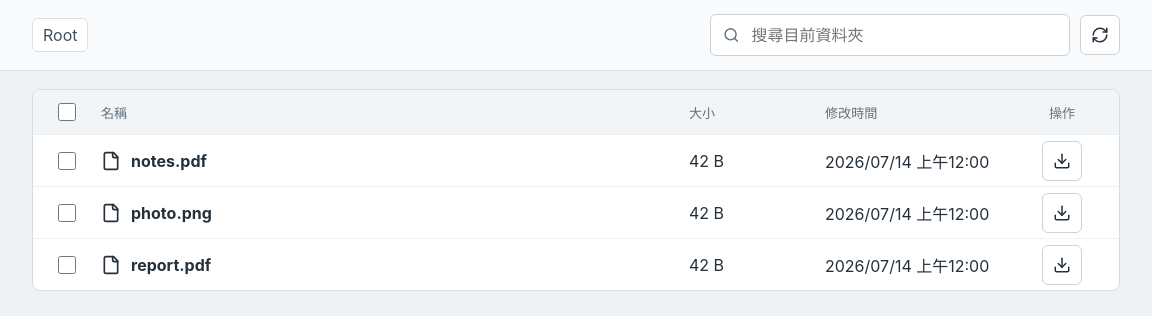
Test: DriveView batch downloads › selects only loaded files matching the current search
Check: the text "report.pdf" is shown, box [101, 254, 211, 274]
Type ".pdf" into the field labelled "搜尋目前資料夾" at (903, 35), box [750, 24, 1057, 46]
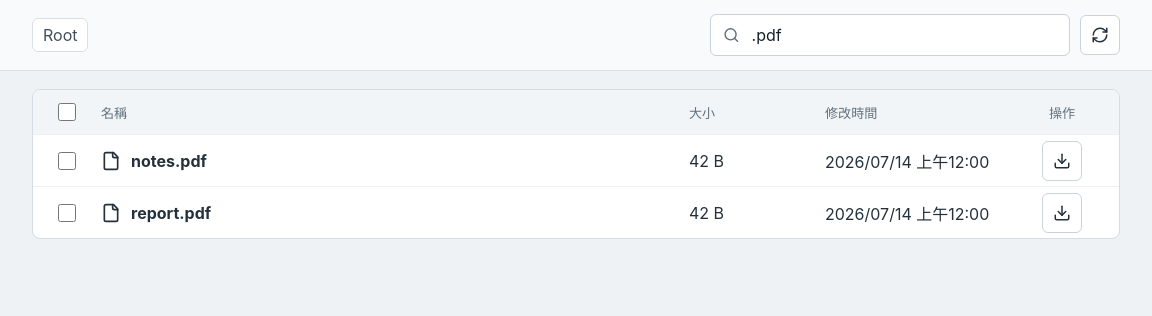
Click the checkbox named "選取目前顯示的所有檔案" at (67, 112), box [58, 103, 76, 121]
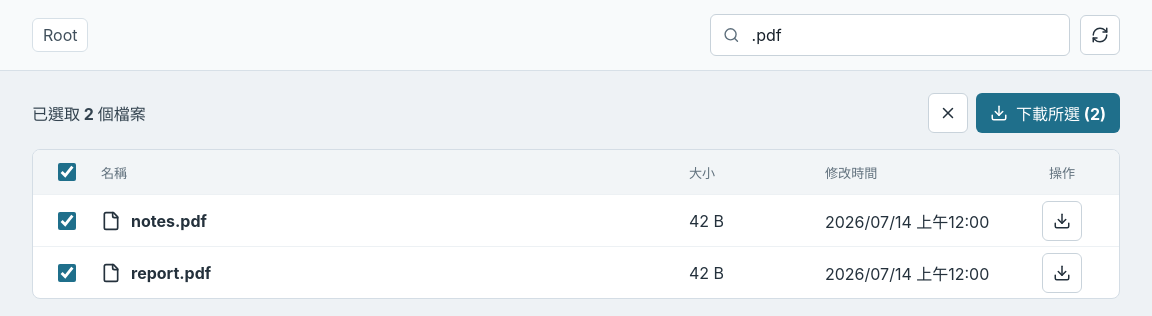
Check: the checkbox named "選取 report.pdf" is checked, box [58, 264, 76, 282]
Check: the checkbox named "選取 notes.pdf" is checked, box [58, 212, 76, 230]
Check: the button "下載所選 (2)" is shown, box [976, 93, 1120, 133]
